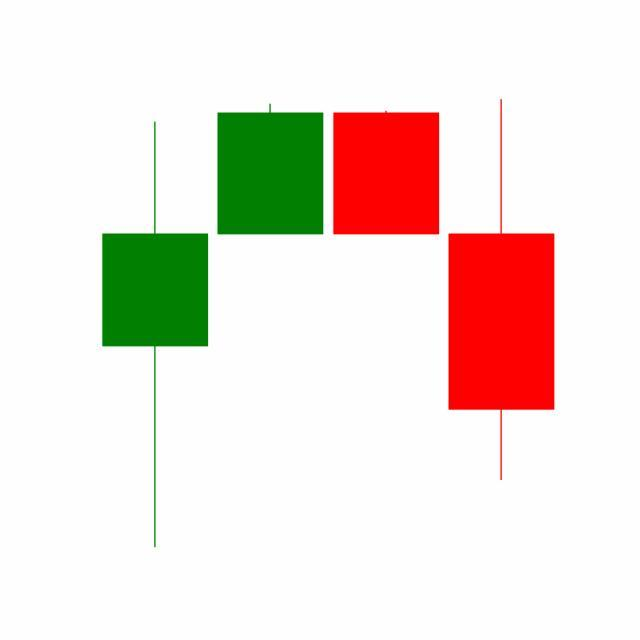Marubozu: (329, 110, 445, 236)
